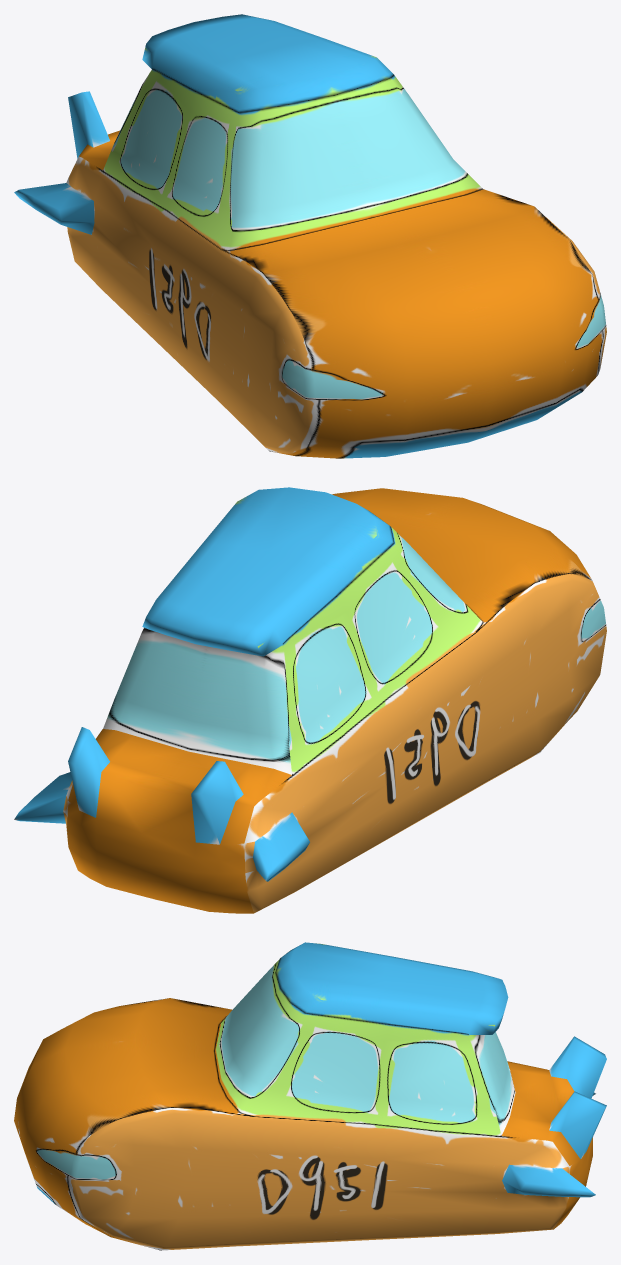
The model's file is feichuan_B.FBX.
The picture shows the model from 3 angles, top to bottom: view 1: azimuth 30°, elevation 25°; view 2: azimuth 150°, elevation 25°; view 3: azimuth 270°, elevation 25°; orthographic projection. The views are drawn at different scales.
Parts seen in each view (by area): view 1: feichuan_B; view 2: feichuan_B; view 3: feichuan_B.
Part boxes in pixels (bbox=[...]): feichuan_B: bbox=[14, 14, 606, 458]; feichuan_B: bbox=[14, 487, 606, 913]; feichuan_B: bbox=[14, 942, 606, 1250].
Bounding box in the file's own units: 136 × 123 × 282.
Materials: 1 (1 with a texture image).
